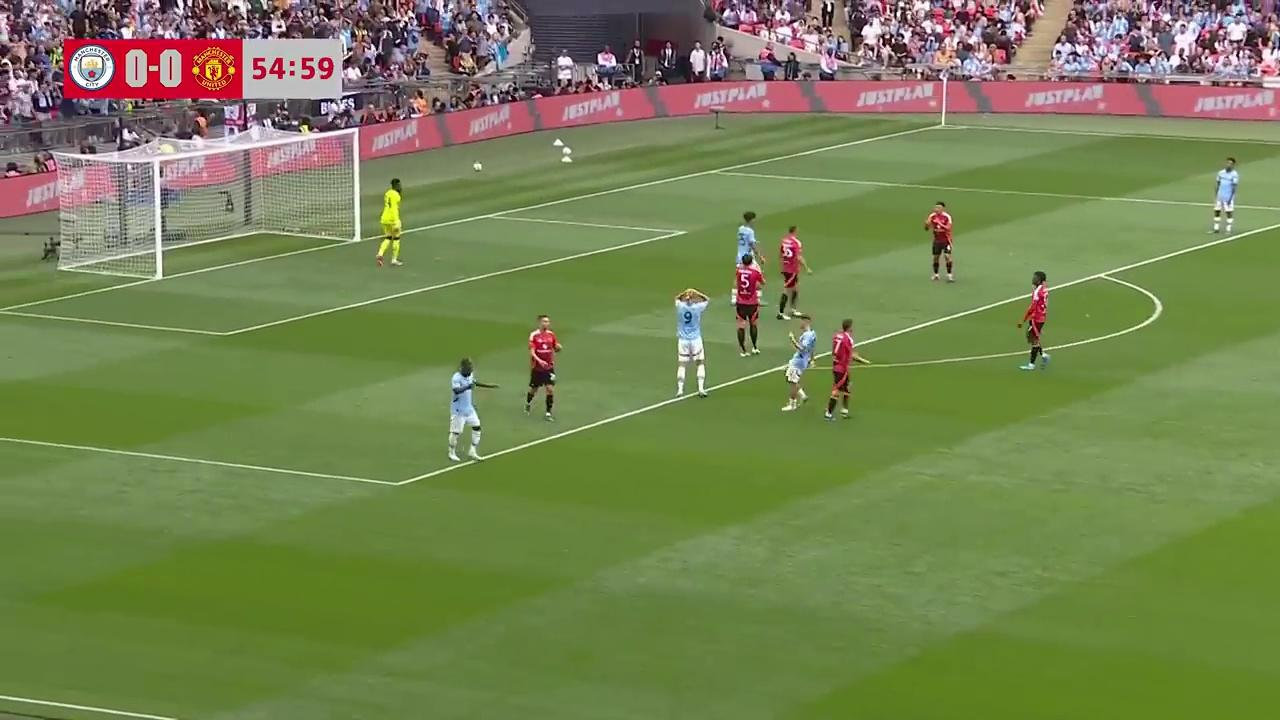player: (447, 357, 487, 461), (674, 287, 711, 398), (524, 314, 562, 419), (824, 319, 863, 420), (731, 258, 765, 357), (1017, 271, 1050, 369), (777, 225, 811, 320), (780, 321, 813, 411), (924, 200, 954, 283), (376, 177, 403, 266), (1212, 157, 1239, 235), (735, 211, 766, 274)
